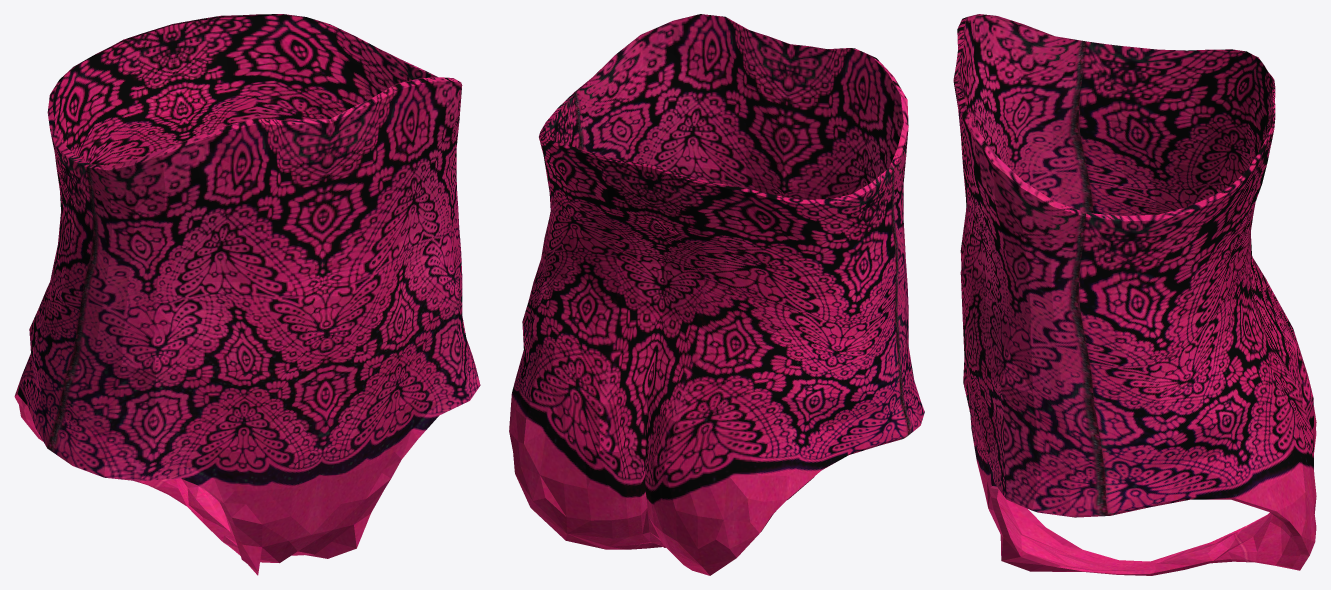
The model's file is mhw_punkduck_shapewear.glb.
3 renders of one model, left to right at view 1: azimuth 30°, elevation 25°; view 2: azimuth 150°, elevation 25°; view 3: azimuth 270°, elevation 25°, orthographic. The views are drawn at different scales.
Parts seen in each view (by area): view 1: mhw_punkduck_shapewear; view 2: mhw_punkduck_shapewear; view 3: mhw_punkduck_shapewear.
Part boxes in pixels (box(x1,y1,x2,y2)): mhw_punkduck_shapewear: box(14, 14, 480, 575); mhw_punkduck_shapewear: box(509, 14, 924, 575); mhw_punkduck_shapewear: box(953, 14, 1316, 575).
Bounding box in the file's own units: 0.3335 × 0.3909 × 0.252.
1 material, 1 textured.
